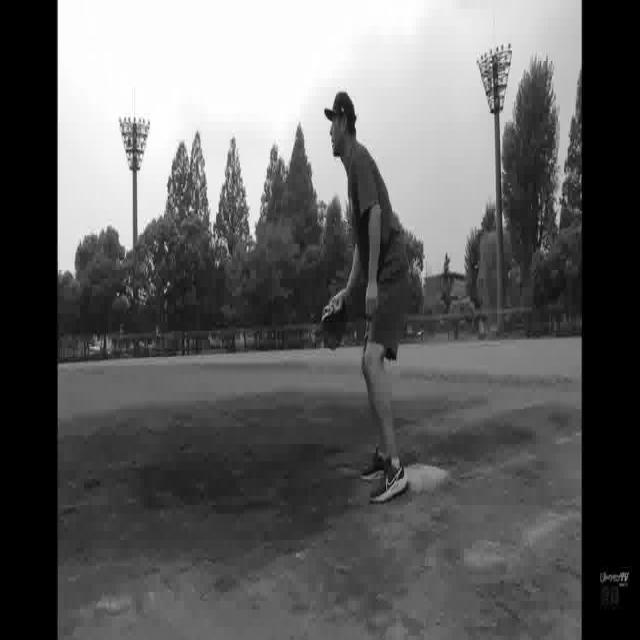base: (402, 466, 448, 491)
baseball_glove: (321, 281, 351, 353)
shoe: (371, 459, 409, 506), (361, 449, 393, 482)
